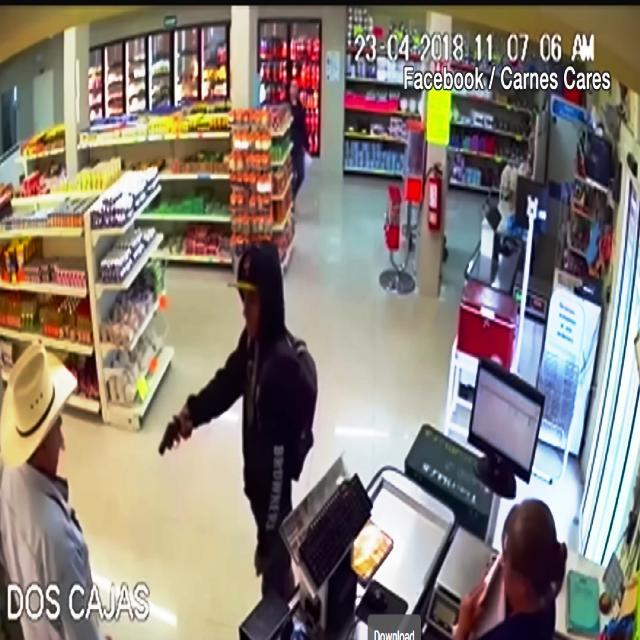Gun: (154, 399, 198, 473)
